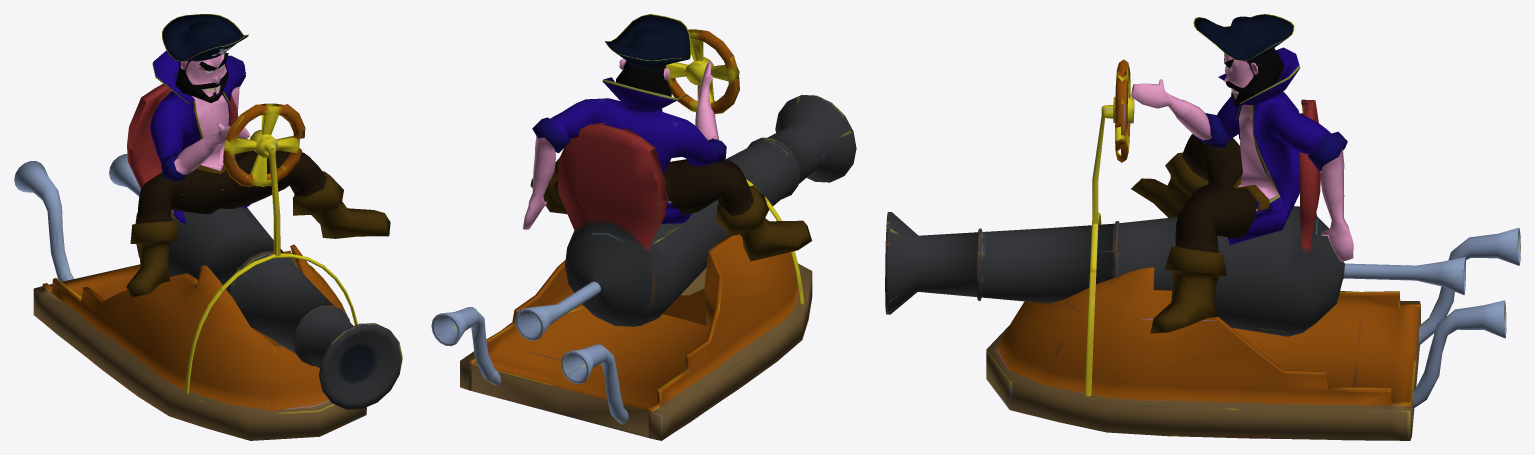
The model's file is PirataHabilidad_000176.obj.
3 renders of one model, left to right at view 1: azimuth 30°, elevation 25°; view 2: azimuth 150°, elevation 25°; view 3: azimuth 270°, elevation 25°, orthographic. The views are drawn at different scales.
Parts seen in each view (by area): view 1: carro_pirata_carro_pirata.001, Pirata_PirataH; view 2: carro_pirata_carro_pirata.001, Pirata_PirataH; view 3: carro_pirata_carro_pirata.001, Pirata_PirataH.
Part boxes in pixels (x1=…): carro_pirata_carro_pirata.001: x1=14, y1=84, x2=402, y2=440; Pirata_PirataH: x1=126, y1=14, x2=390, y2=297; carro_pirata_carro_pirata.001: x1=431, y1=29, x2=856, y2=440; Pirata_PirataH: x1=522, y1=14, x2=811, y2=261; carro_pirata_carro_pirata.001: x1=885, y1=59, x2=1520, y2=440; Pirata_PirataH: x1=1131, y1=14, x2=1353, y2=333.
Bounding box in the file's own units: 6.52 × 7.53 × 12.1.
